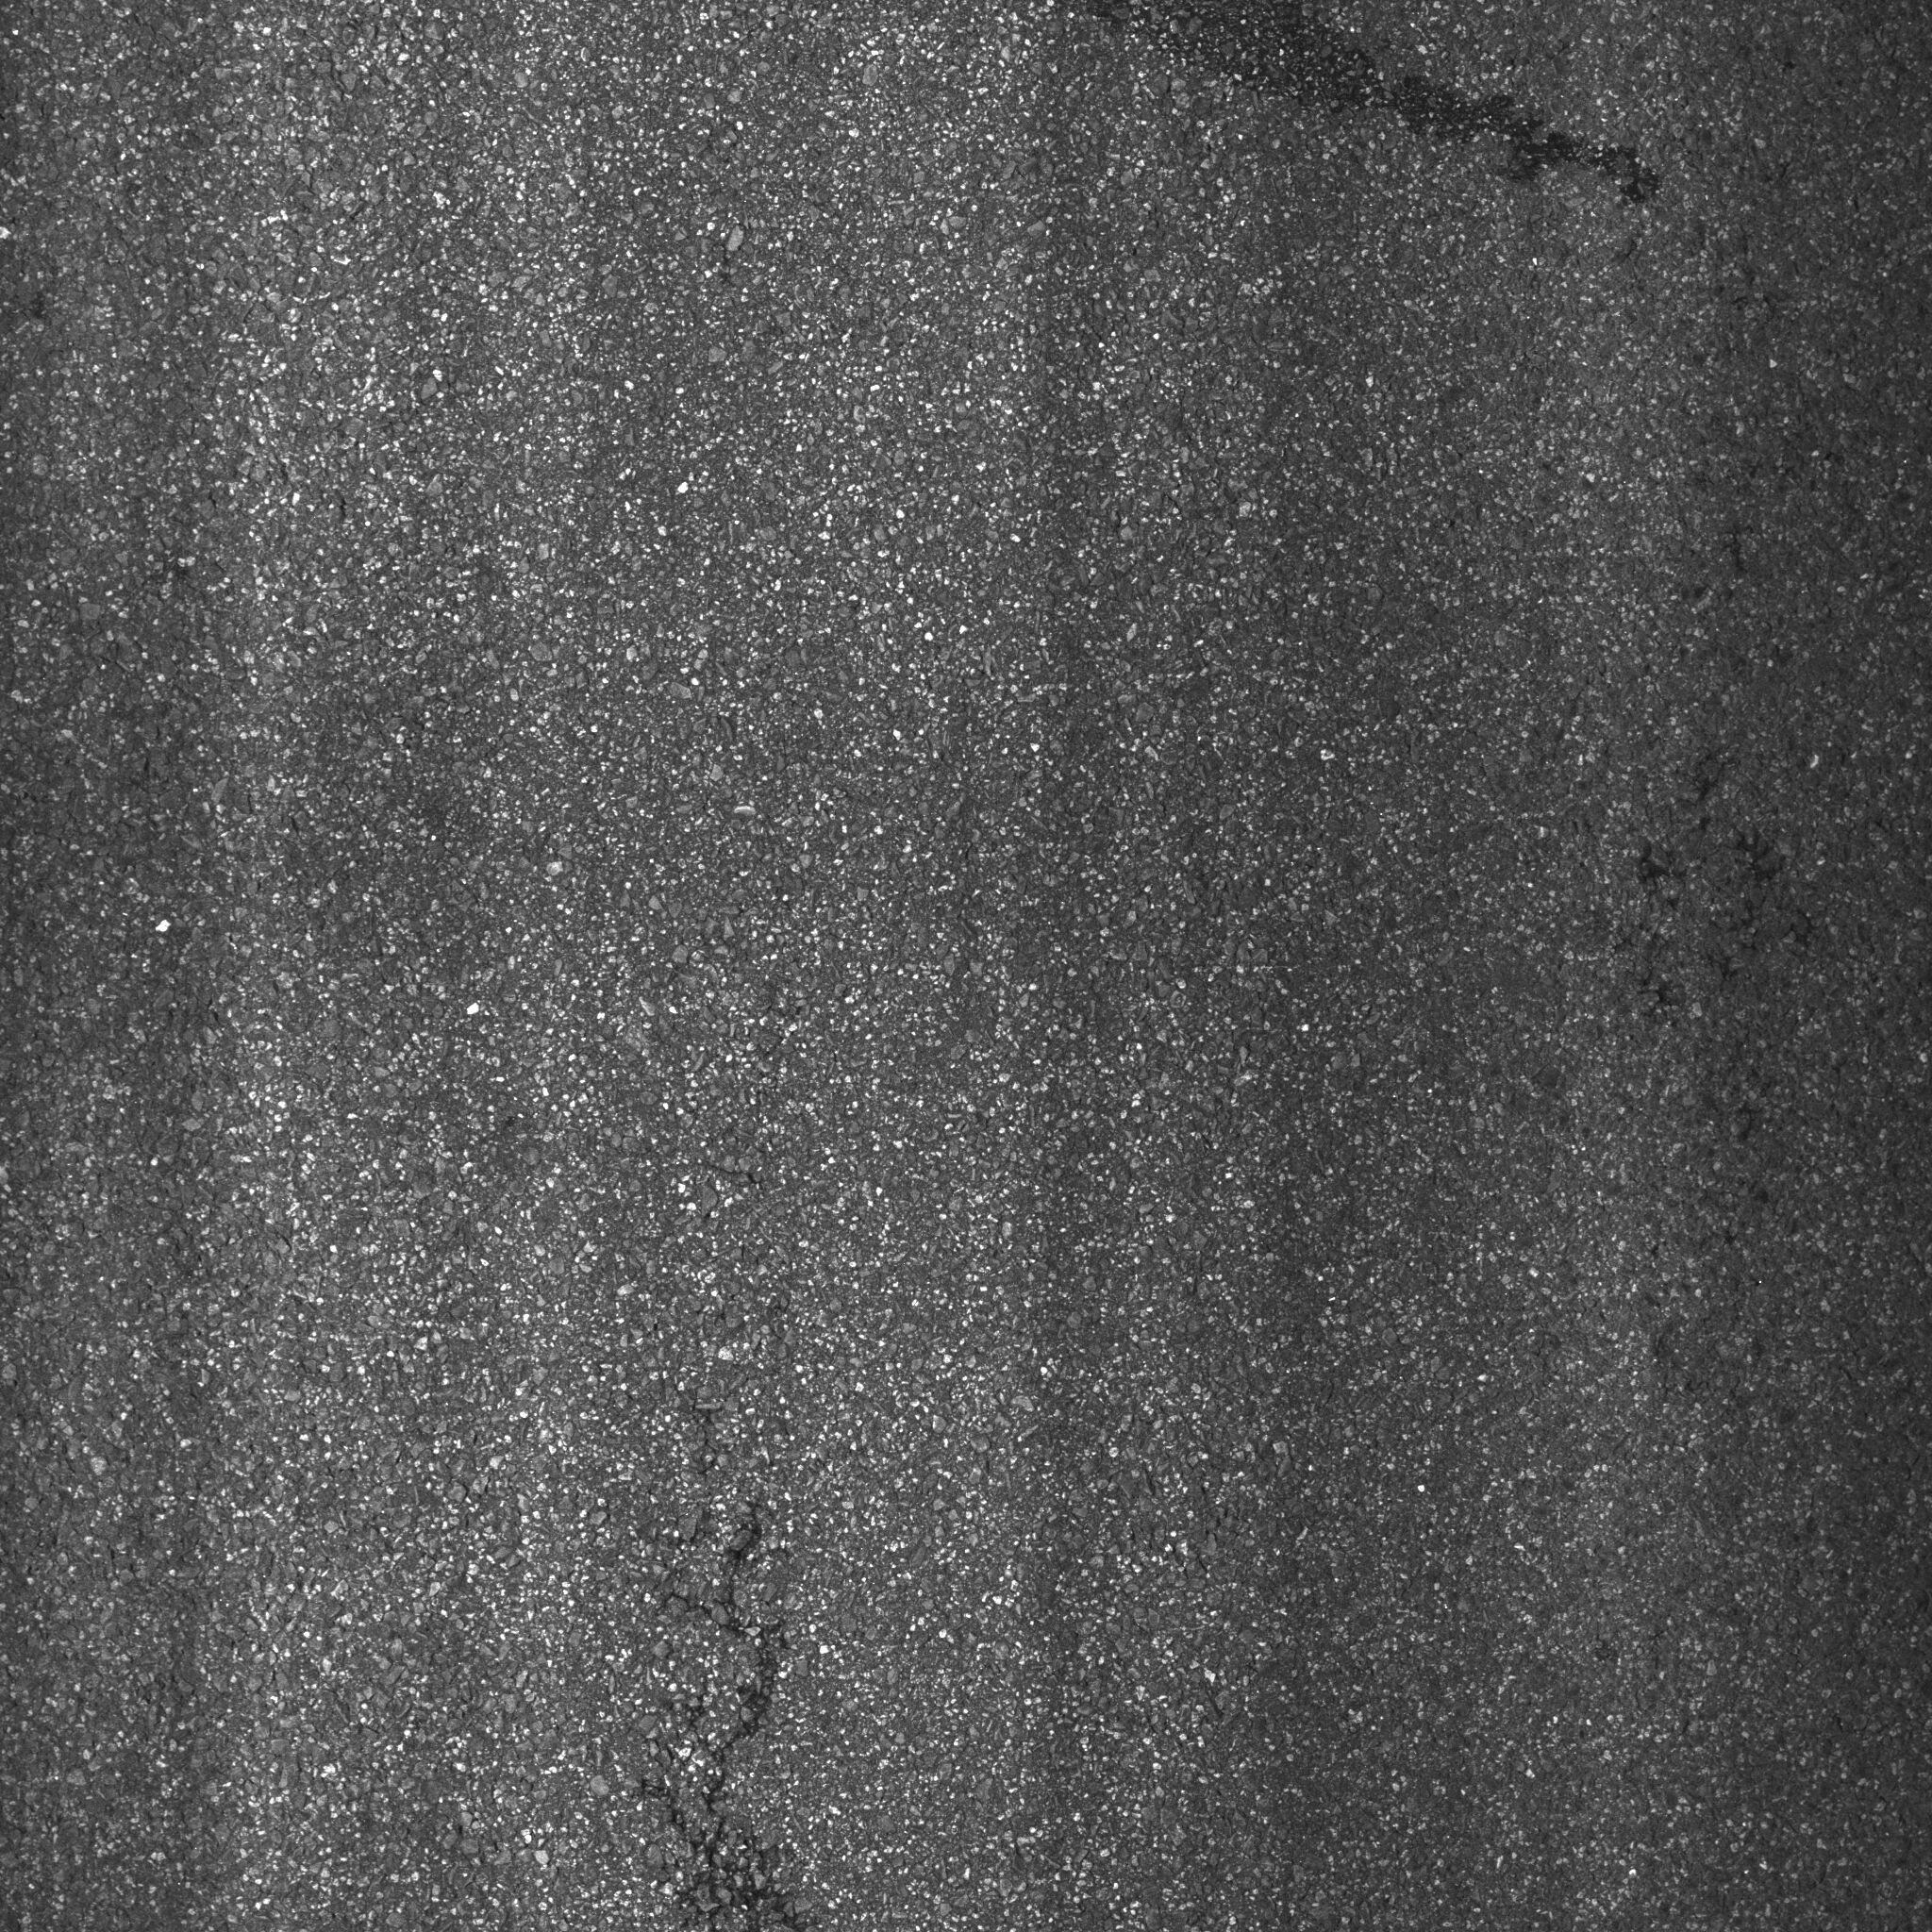longitudinal: (648, 1453, 819, 1914)
